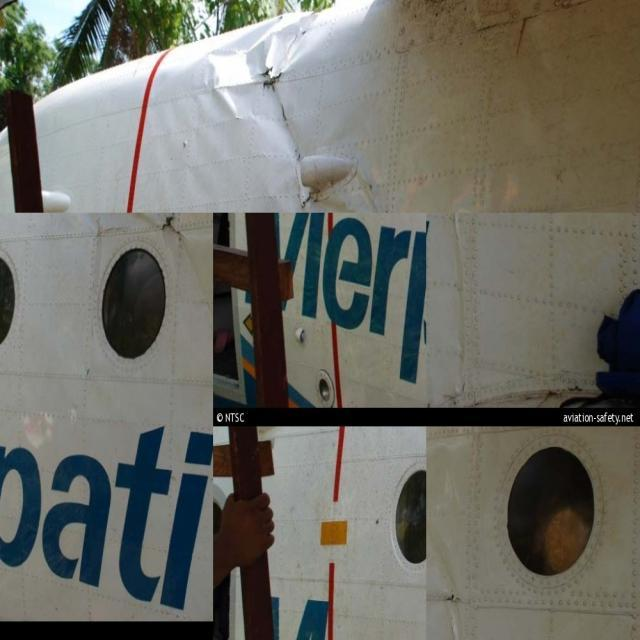crack: (262, 64, 291, 126), (160, 215, 188, 241)
dent: (205, 13, 329, 128)
